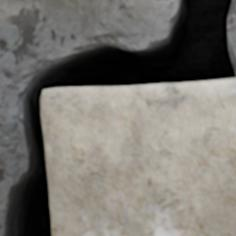brick: (42, 80, 235, 235)
crack: (1, 0, 235, 235)
